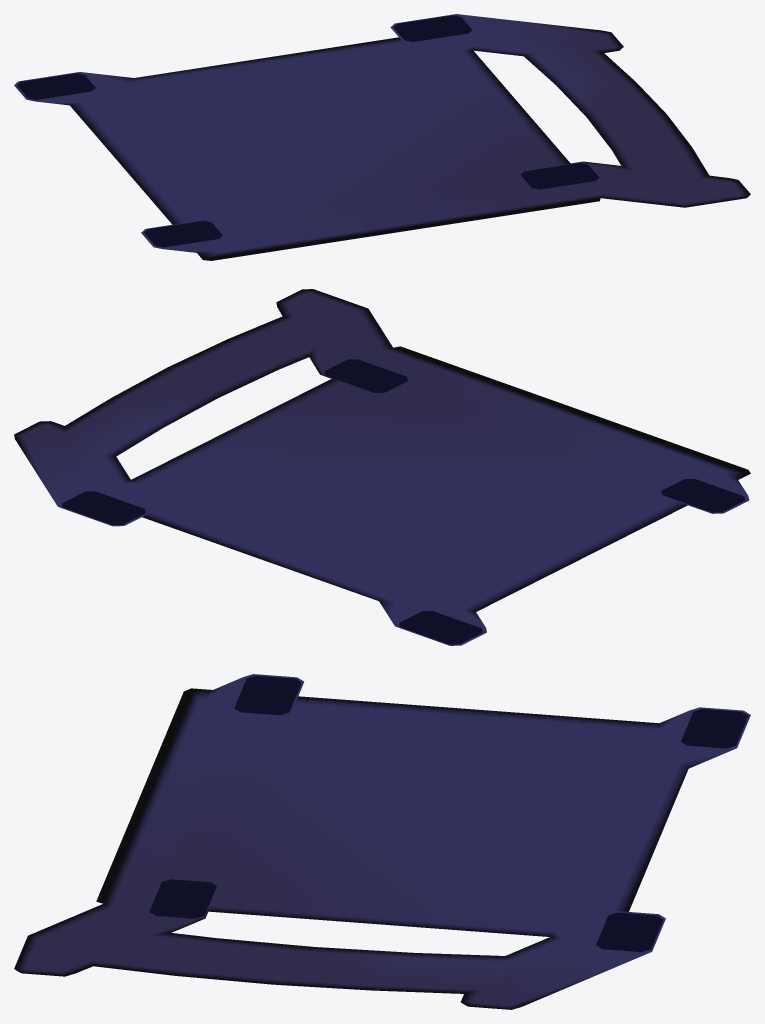
3 renders of one model, top to bottom at view 1: azimuth 30°, elevation 25°; view 2: azimuth 150°, elevation 25°; view 3: azimuth 270°, elevation 25°, orthographic. The views are drawn at different scales.
Visible parts, largest first — view 1: Joint_0_Object_0; view 2: Joint_0_Object_0; view 3: Joint_0_Object_0.
Boxes of the visible parts, x1=… form: Joint_0_Object_0: x1=14, y1=14, x2=750, y2=260; Joint_0_Object_0: x1=14, y1=289, x2=750, y2=645; Joint_0_Object_0: x1=14, y1=674, x2=750, y2=1009.
Bounding box in the file's own units: 894 × 0 × 829.
1 material, 1 textured.
